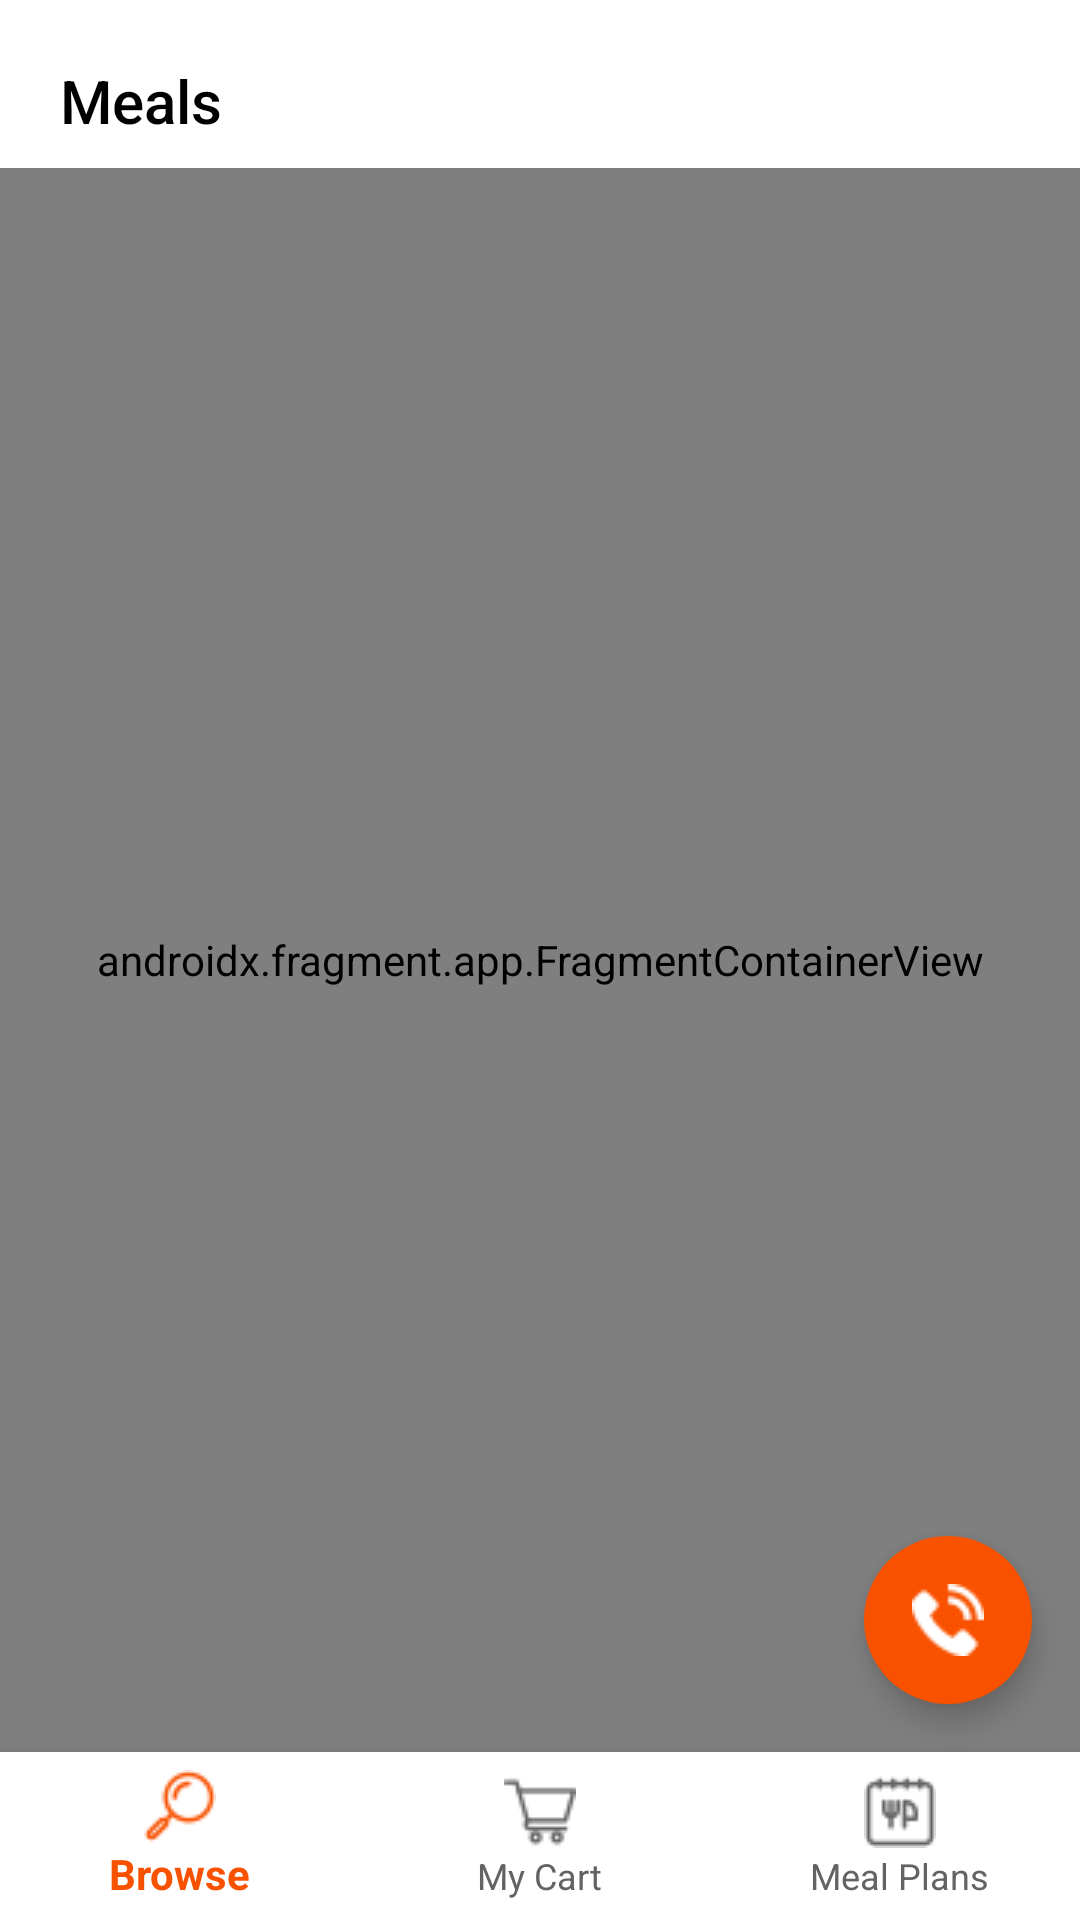

Icon bounding boxes for this 1080×1920 phone screenshot, format (x1, y1, x2, y2):
floating action button to call the hotline: (864, 1536, 1032, 1704)
